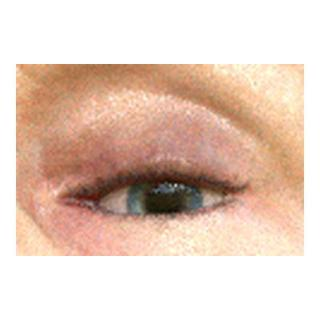pupil: (148, 188, 180, 221)
